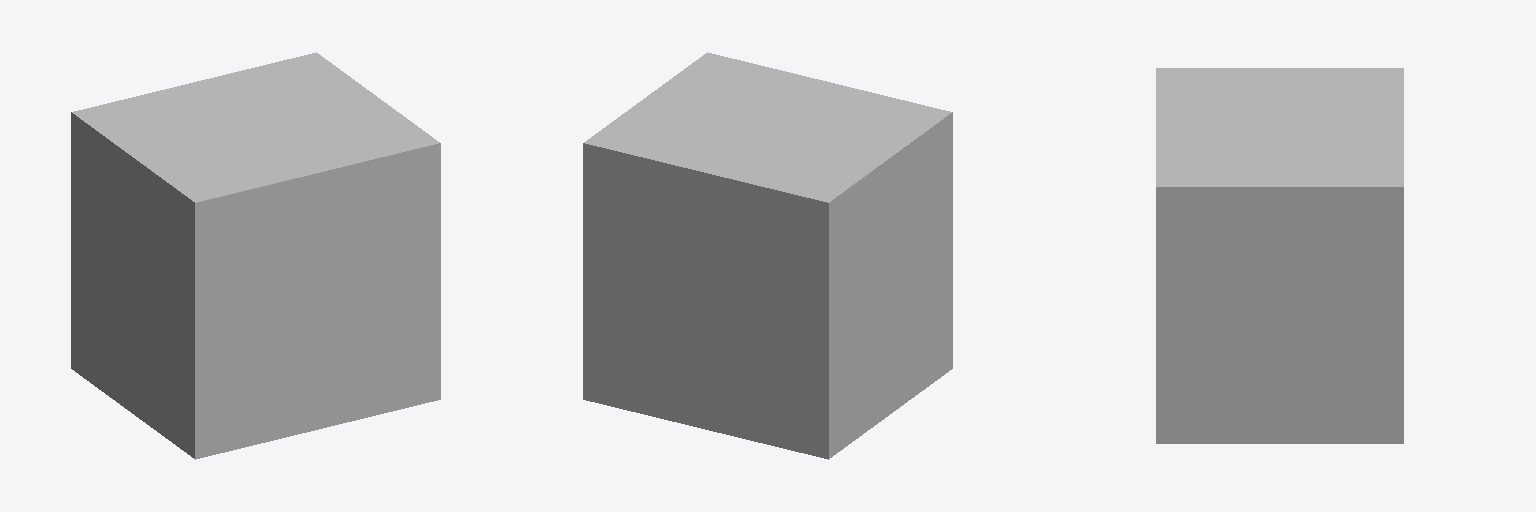
Rendered from jager-5.obj.
3 renders of one model, left to right at view 1: azimuth 30°, elevation 25°; view 2: azimuth 150°, elevation 25°; view 3: azimuth 270°, elevation 25°, orthographic.
Parts seen in each view (by area): view 1: object 1; view 2: object 1; view 3: object 1.
Part boxes in pixels (bbox=[...]): object 1: bbox=[71, 52, 440, 459]; object 1: bbox=[583, 52, 952, 459]; object 1: bbox=[1156, 68, 1403, 443].
Size of the model in its own units: 1.6 by 1.6 by 1.4.